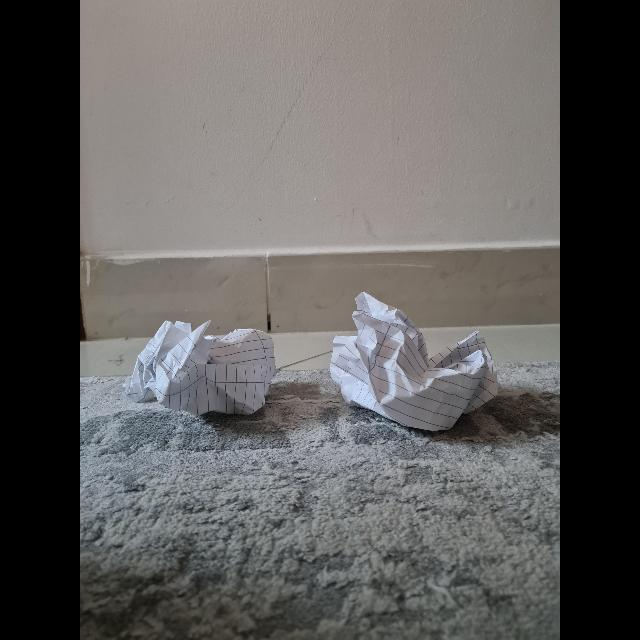scrap_paper: (333, 292, 503, 432), (130, 321, 282, 417)
